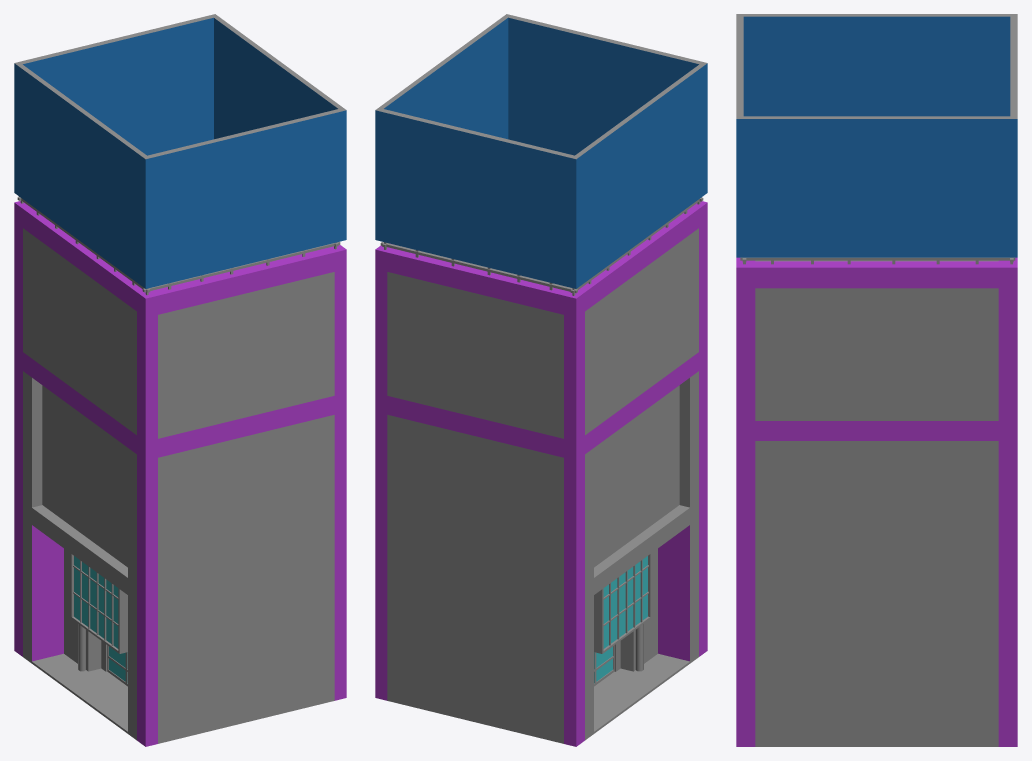
File: buildings_M_01.fbx
The picture shows the model from 3 angles, left to right: view 1: azimuth 30°, elevation 25°; view 2: azimuth 150°, elevation 25°; view 3: azimuth 270°, elevation 25°; orthographic projection. The views are drawn at different scales.
Visible parts, largest first — view 1: buildings_M_01; view 2: buildings_M_01; view 3: buildings_M_01.
Boxes of the visible parts, bbox=[...] form: buildings_M_01: bbox=[14, 14, 346, 746]; buildings_M_01: bbox=[375, 14, 707, 746]; buildings_M_01: bbox=[736, 14, 1017, 746].
Bounding box in the file's own units: 12.5 × 34.91 × 14.16.
